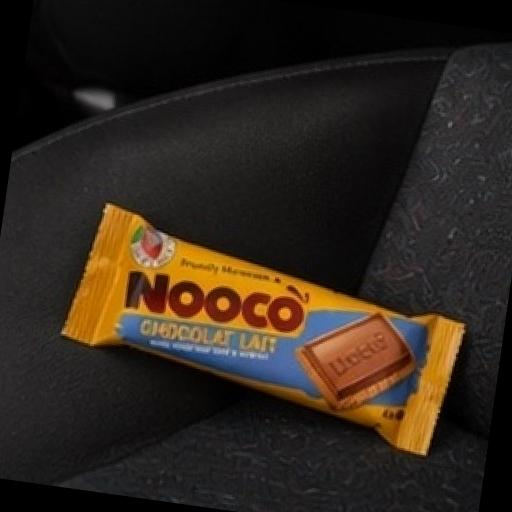biscuit-detection: (56, 160, 484, 482)
